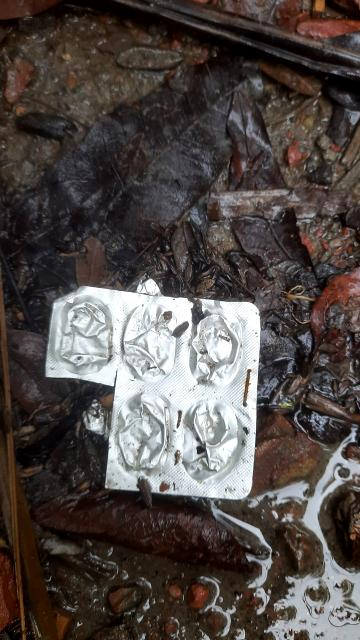medicine: (51, 284, 265, 507)
